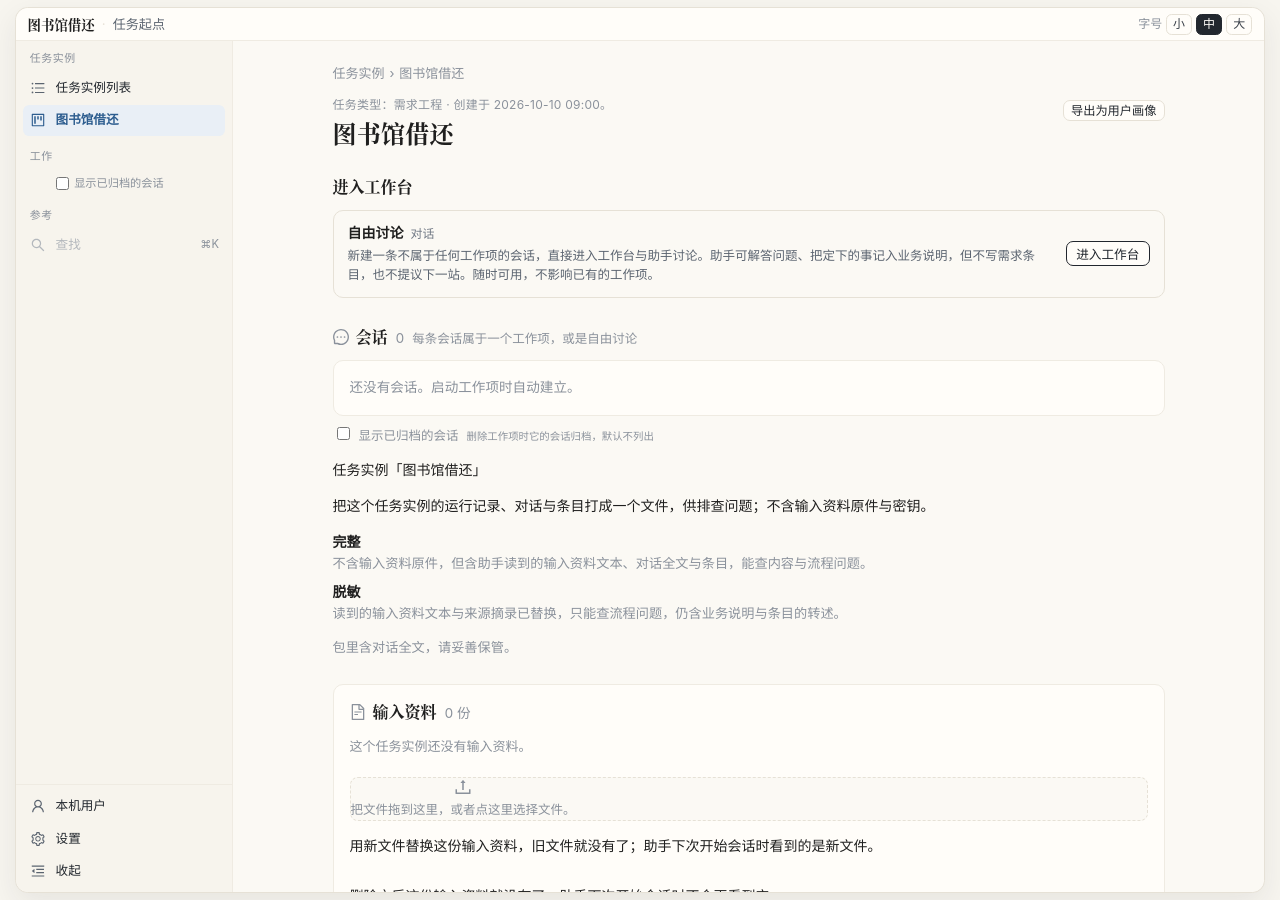
Test: 任务页的导出为用户画像 › 后端取不到（例如服务重启后不再是调试模式）：报出原因，不存文件
Step 1. Click the button with test id "export-persona" → (1114, 110), box [1063,100,1164,121]
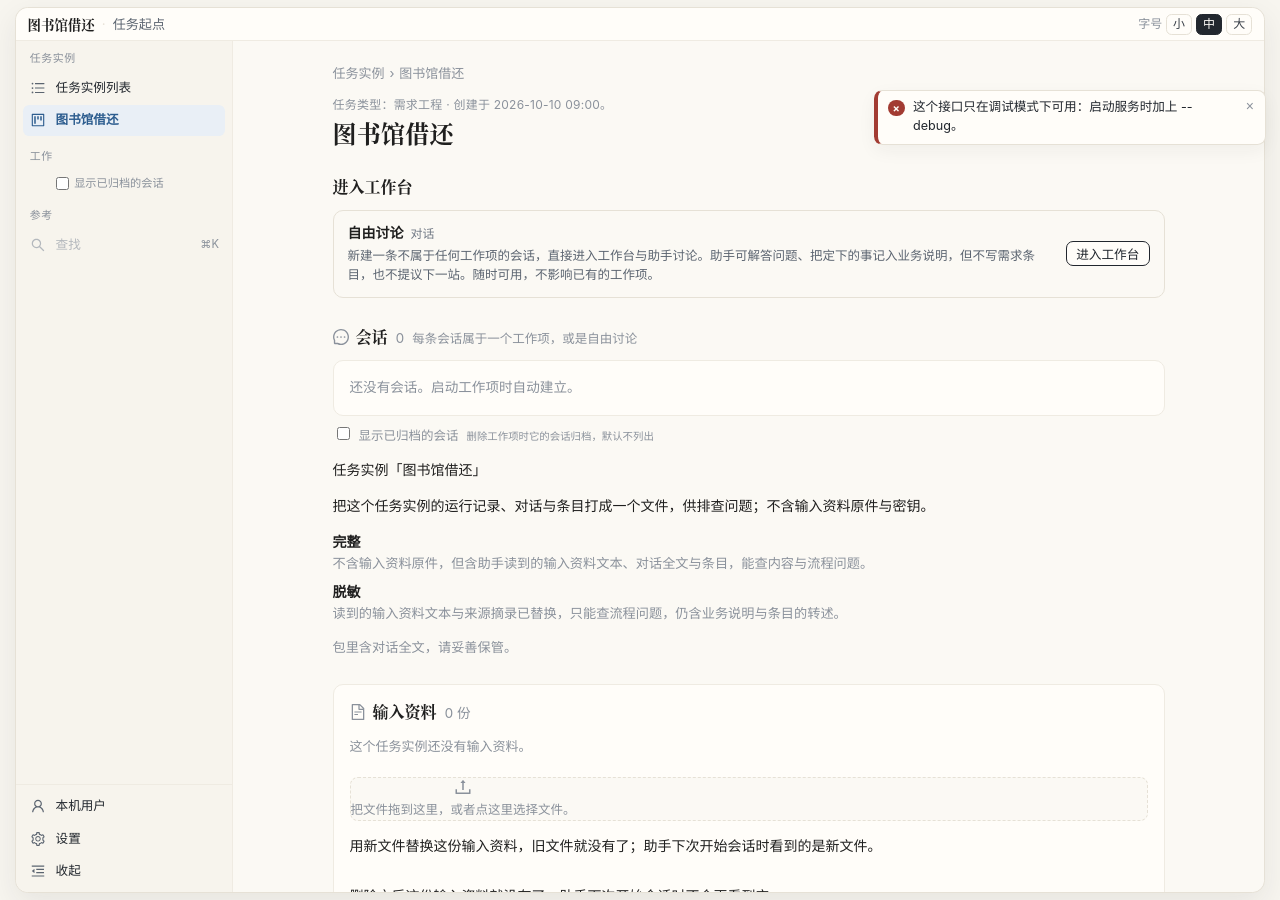
Check: the text "这个接口只在调试模式下可用：启动服务时加上 --debug。" is shown, box [913,99,1193,133]
